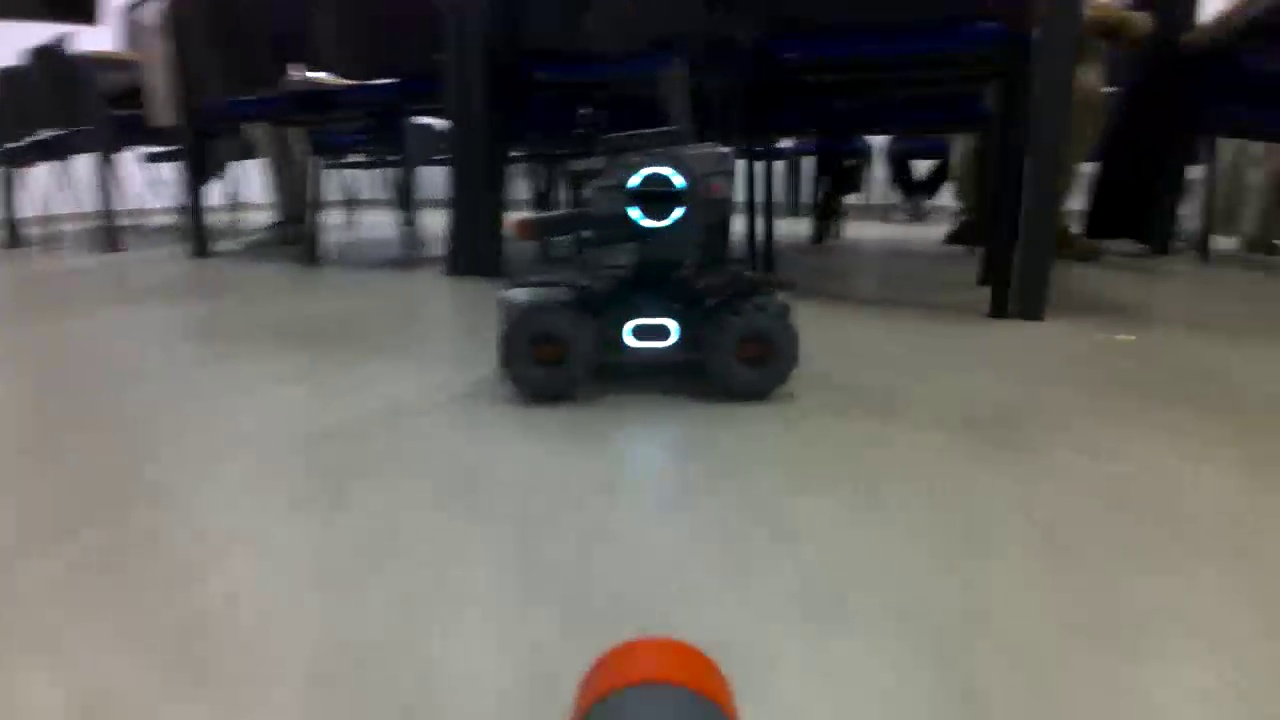robot: (495, 122, 803, 408)
